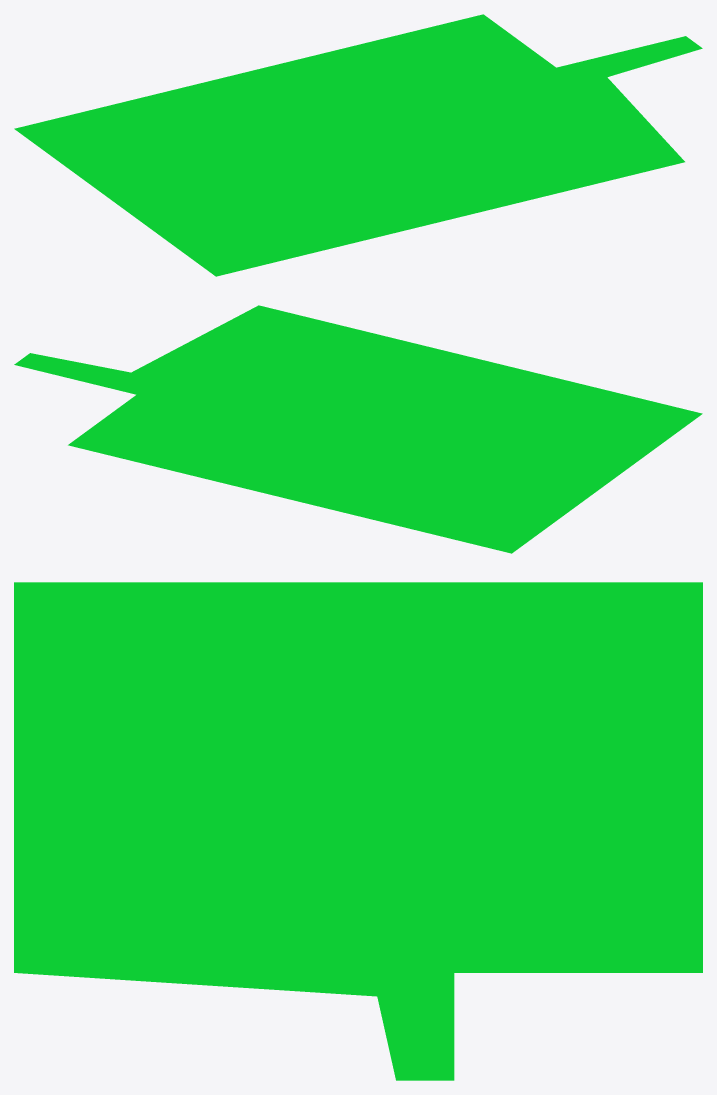
File: floor_fix.fbx
3 views of the same model, one above another, from view 1: azimuth 30°, elevation 25°; view 2: azimuth 150°, elevation 25°; view 3: azimuth 270°, elevation 25° (orthographic). The views are drawn at different scales.
Parts seen in each view (by area): view 1: Server rooms .130; view 2: Server rooms .130; view 3: Server rooms .130.
Boxes of the visible parts, x1,y1,x2,y2 form: Server rooms .130: (14, 14, 702, 276); Server rooms .130: (14, 305, 702, 553); Server rooms .130: (14, 582, 702, 1080).
Size of the model in its own units: 2057 by 0.000183 by 1202.
